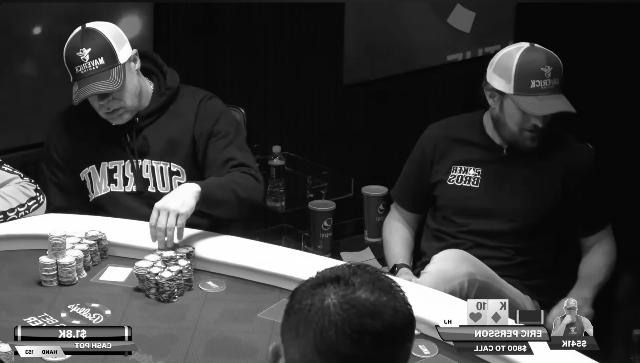10H: (468, 300, 488, 326)
KD: (488, 300, 508, 326)
